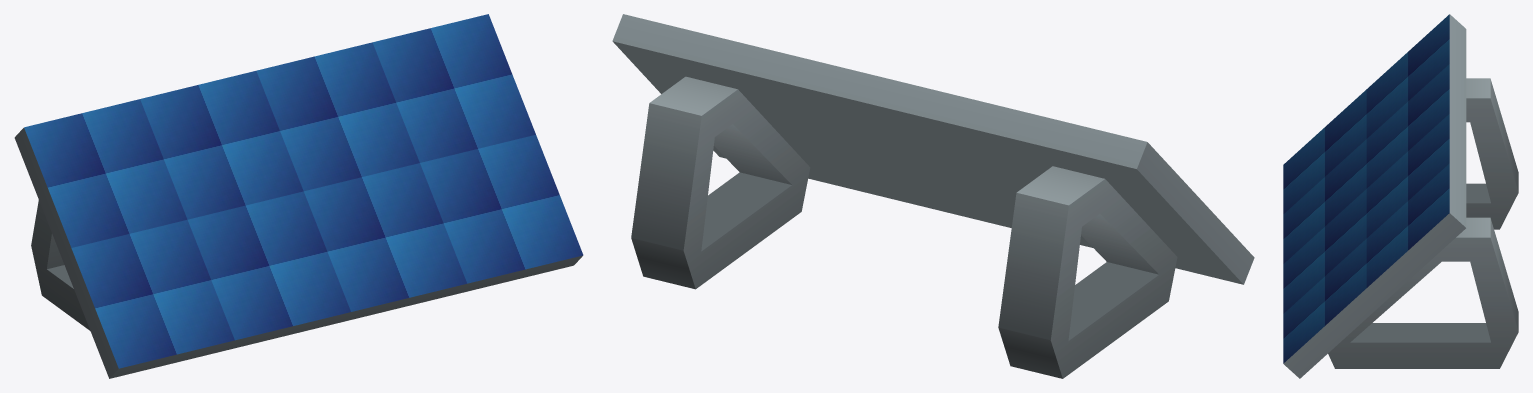
Rendered from solarpanel.glb.
3 views of the same model, side by side, from view 1: azimuth 30°, elevation 25°; view 2: azimuth 150°, elevation 25°; view 3: azimuth 270°, elevation 25° (orthographic). The views are drawn at different scales.
Visible parts, largest first — view 1: solarpanel; view 2: solarpanel; view 3: solarpanel.
Part boxes in pixels (bbox=[...]): solarpanel: bbox=[14, 14, 583, 378]; solarpanel: bbox=[612, 14, 1254, 378]; solarpanel: bbox=[1283, 14, 1518, 378].
Bounding box in the file's own units: 0.9 × 0.3709 × 0.4501.
Materials: 1 (1 with a texture image).
